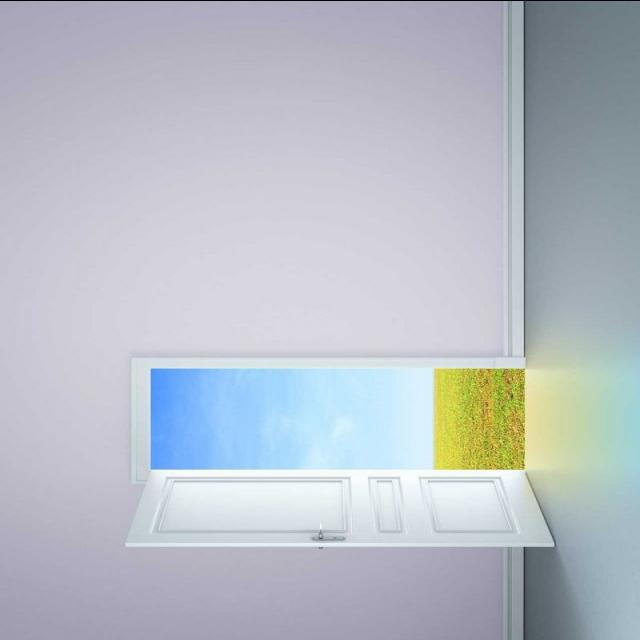open: (138, 358, 546, 548)
